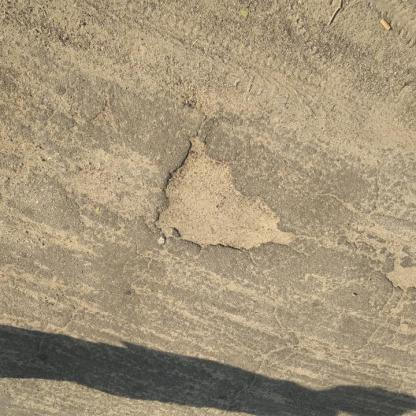pothole: (149, 136, 299, 255), (383, 263, 416, 293)
